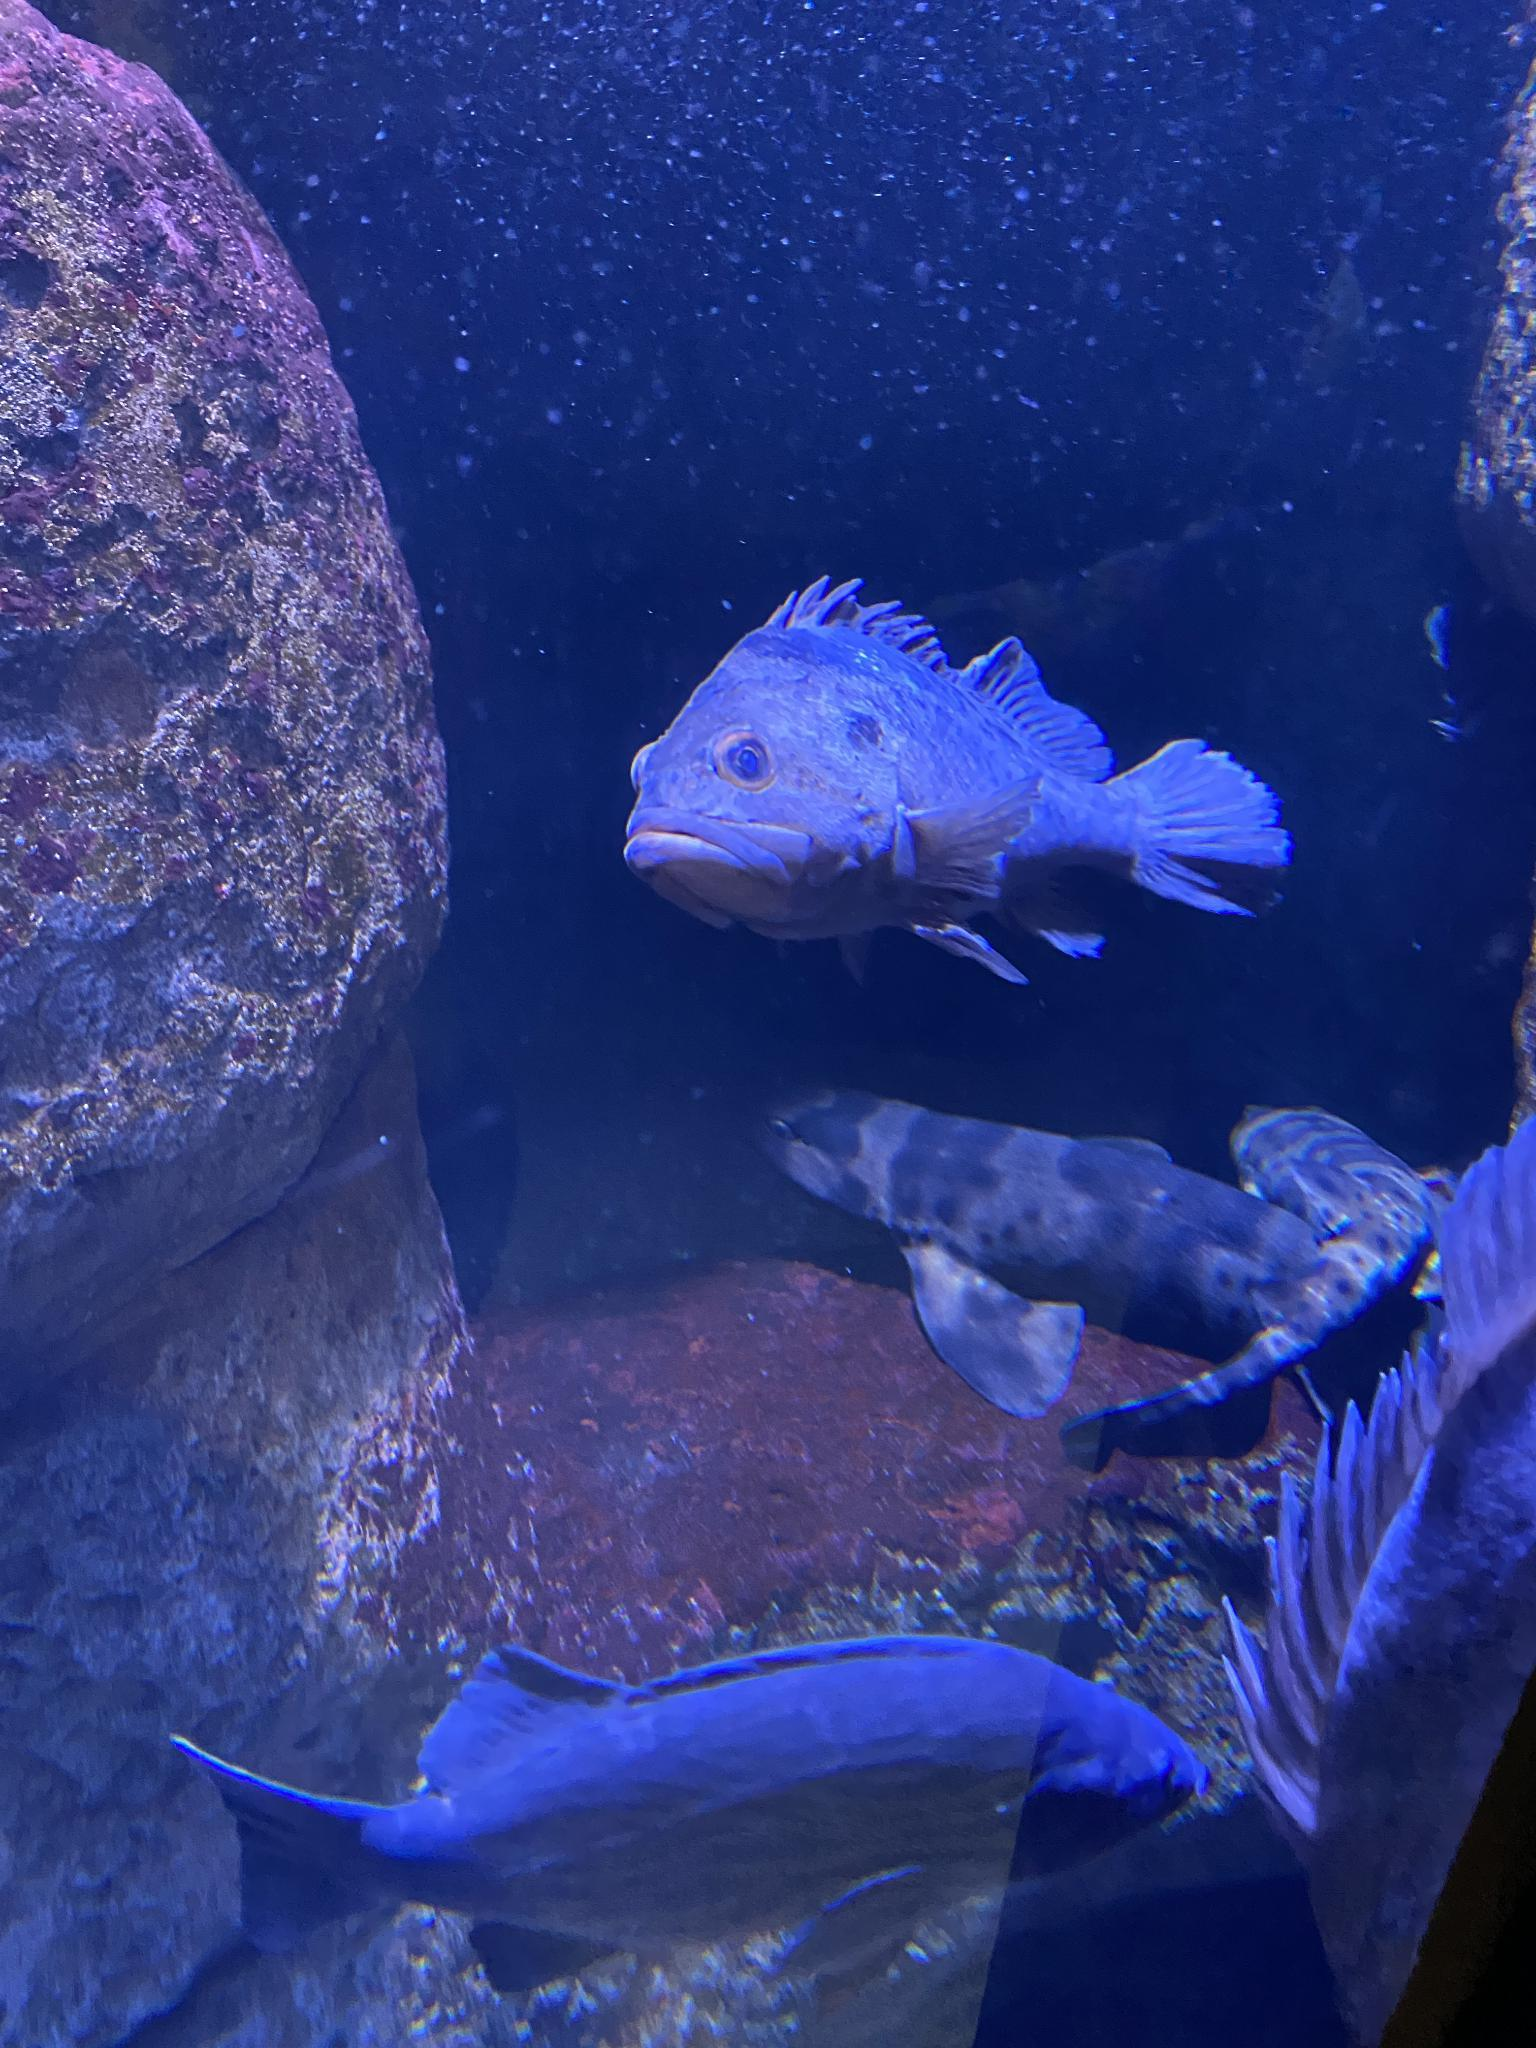fish: (169, 1629, 1200, 2000), (620, 572, 1288, 993), (744, 1071, 1312, 1422), (1068, 1101, 1436, 1477)
